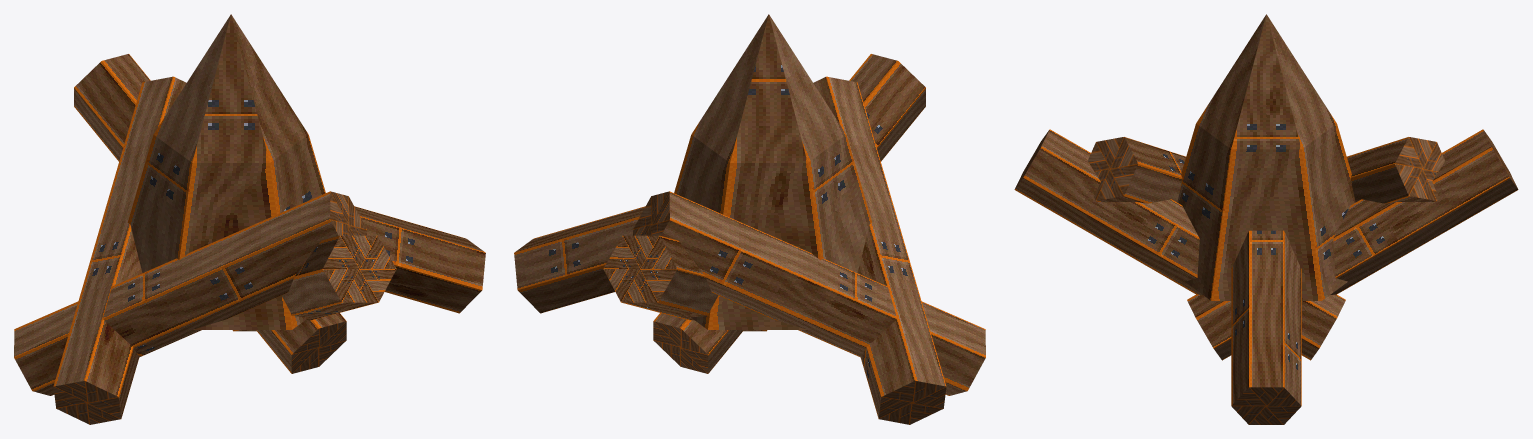
Rendered from fogueira.glb.
The picture shows the model from 3 angles, left to right: view 1: azimuth 30°, elevation 25°; view 2: azimuth 150°, elevation 25°; view 3: azimuth 270°, elevation 25°; orthographic projection. The views are drawn at different scales.
Visible parts, largest first — view 1: fogueira; view 2: fogueira; view 3: fogueira.
Boxes of the visible parts, x1,y1,x2,y2 form: fogueira: (14, 14, 485, 424); fogueira: (514, 14, 985, 424); fogueira: (1014, 14, 1518, 424).
Bounding box in the file's own units: 0.9215 × 0.7112 × 1.
1 material, 1 textured.
